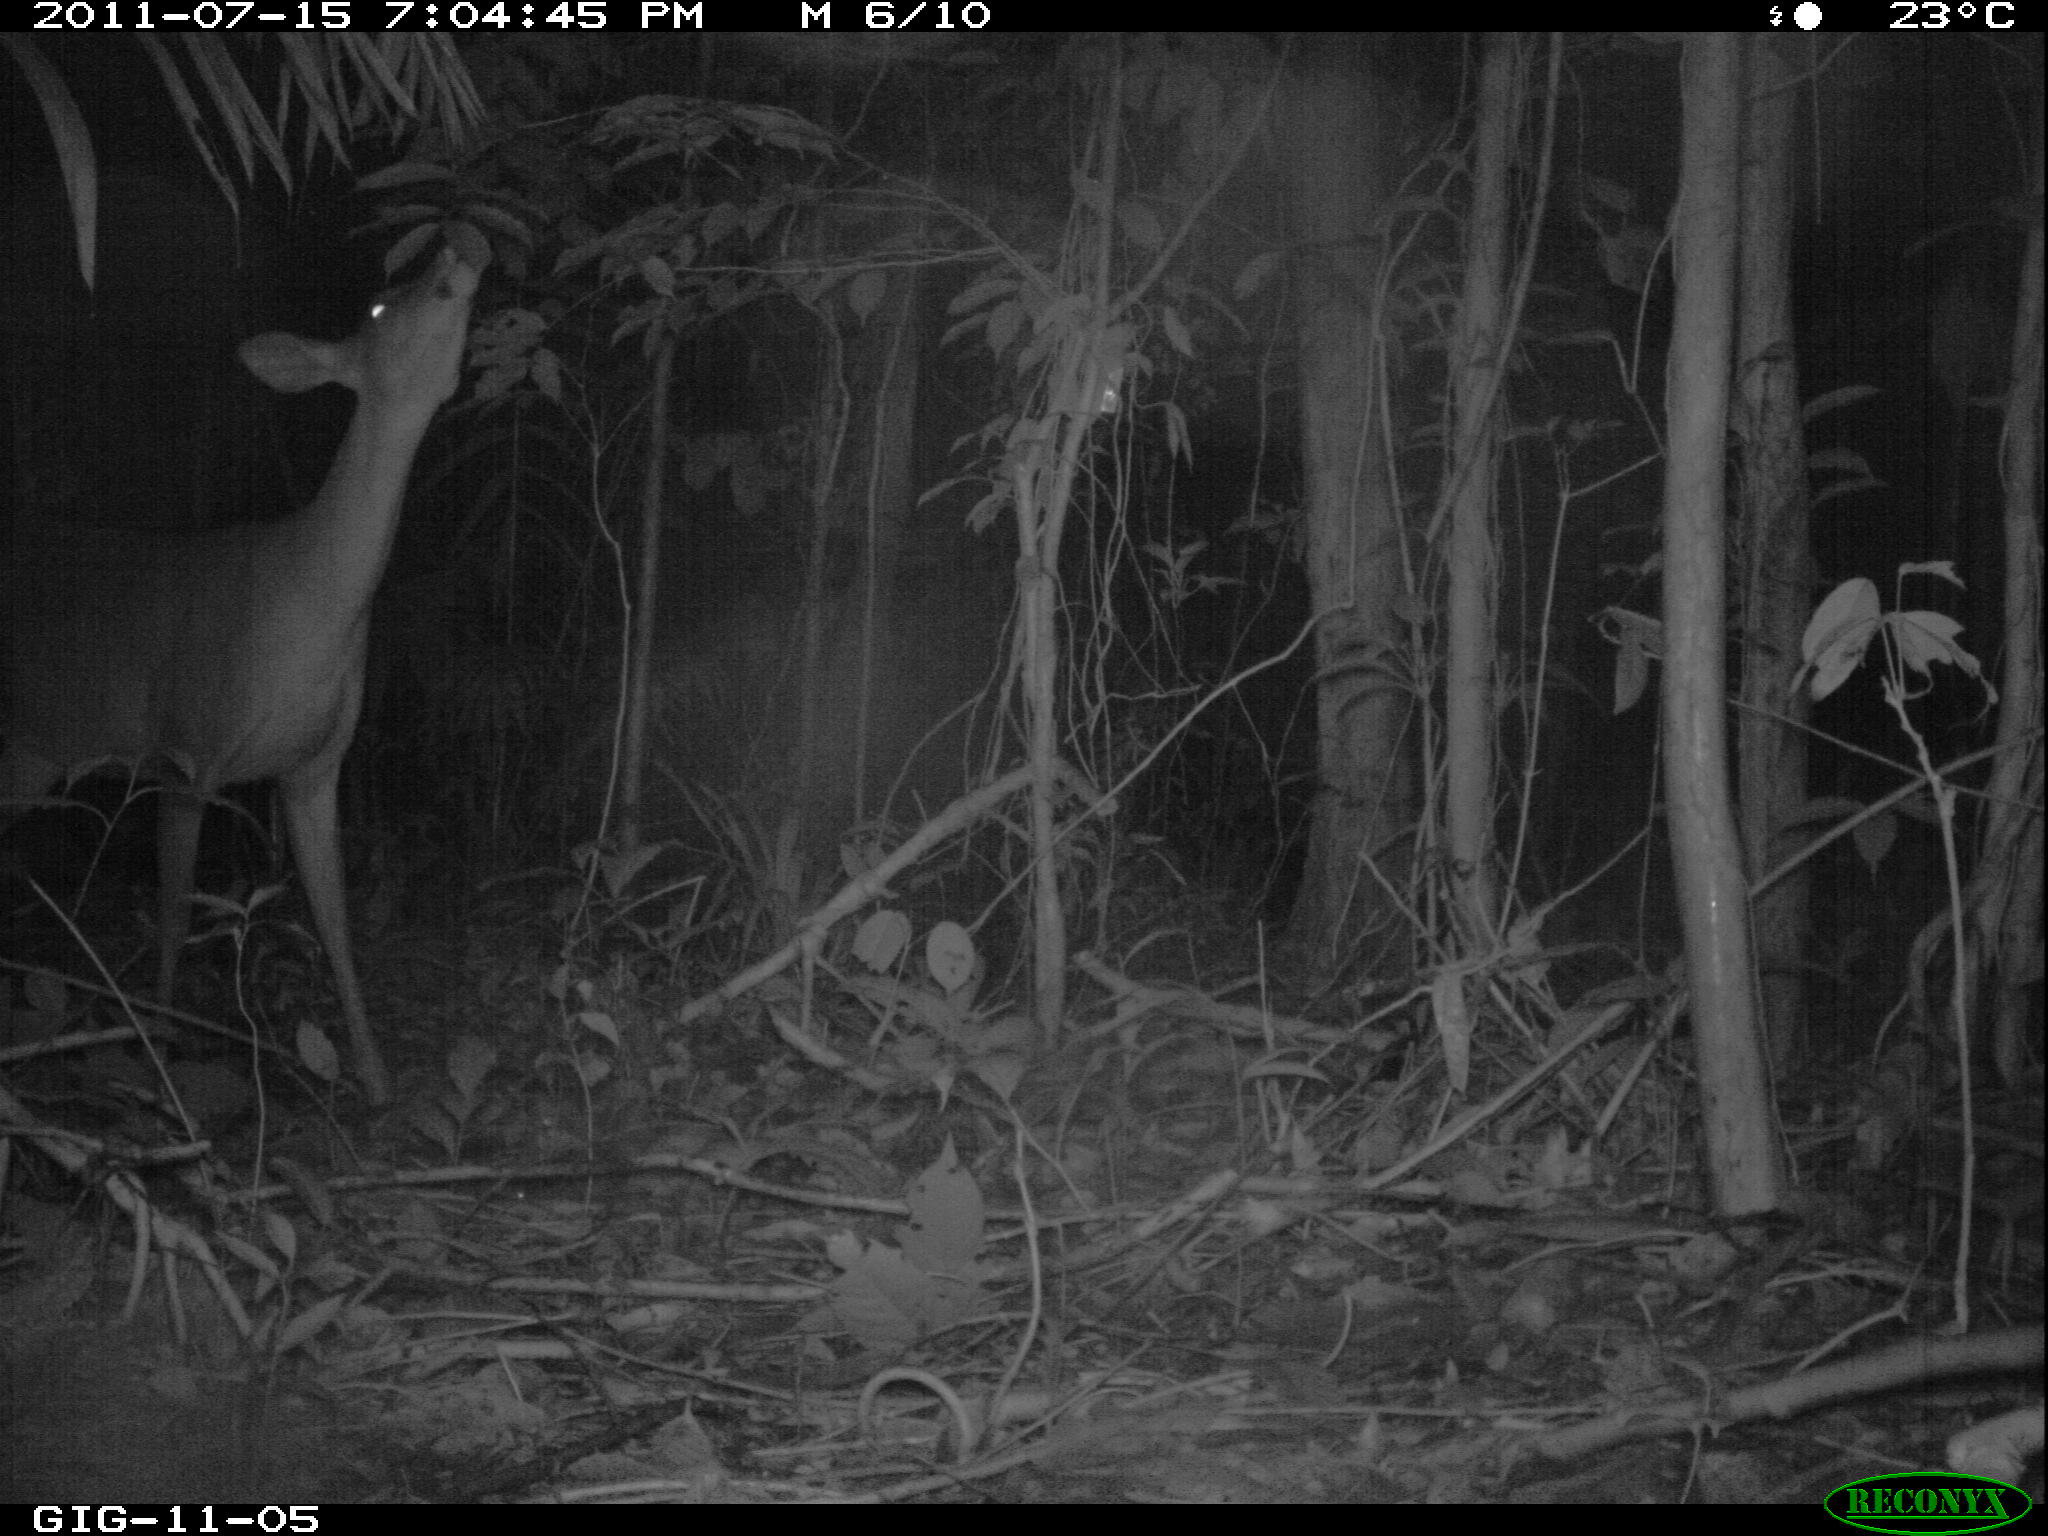Deer: (2, 218, 493, 1108)
